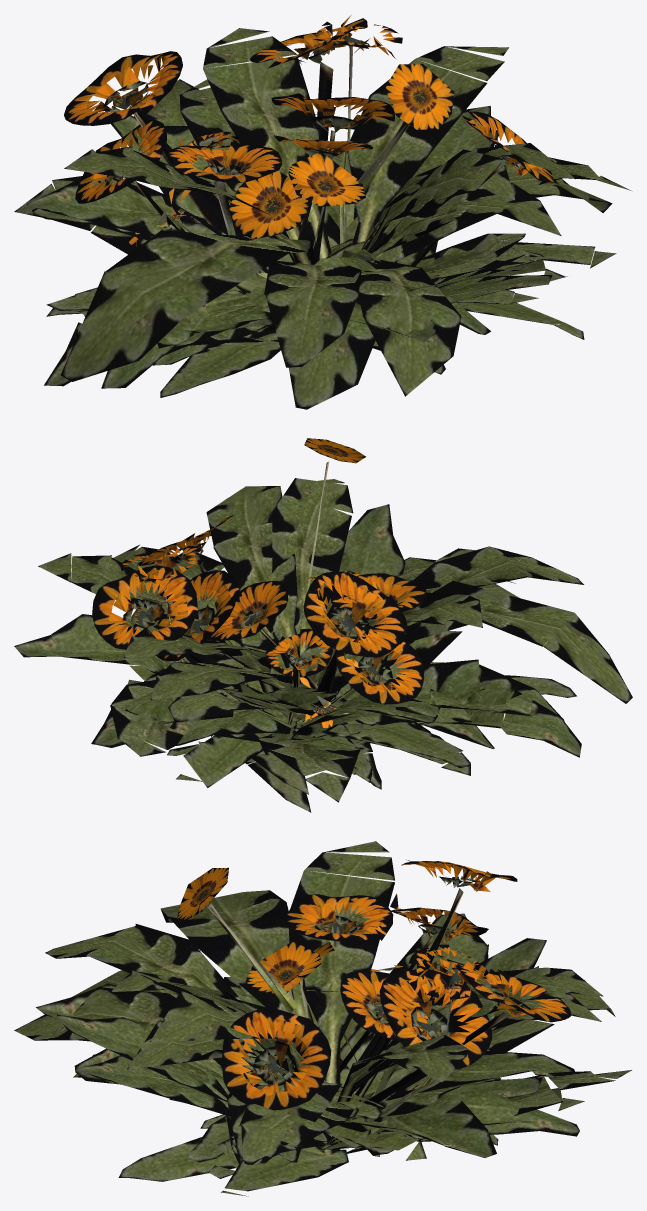
File: ph_flower_gazania.glb
3 views of the same model, one above another, from view 1: azimuth 30°, elevation 25°; view 2: azimuth 150°, elevation 25°; view 3: azimuth 270°, elevation 25° (orthographic). The views are drawn at different scales.
Visible parts, largest first — view 1: v0, v2, v1, v3, v4, v6, v5; view 2: v0, v2, v1, v3, v4, v5, v6; view 3: v0, v2, v1, v3, v4, v6, v5.
Part boxes in pixels (box(x1,y1,x2,y2)): v0: box(61, 15, 631, 396); v2: box(14, 79, 612, 386); v1: box(101, 18, 567, 409); v3: box(26, 131, 534, 310); v4: box(160, 135, 525, 397); v6: box(197, 157, 584, 374); v5: box(32, 183, 543, 316); v0: box(14, 438, 632, 787); v2: box(152, 546, 583, 802); v1: box(92, 515, 564, 727); v3: box(144, 573, 470, 794); v4: box(170, 580, 576, 789); v5: box(167, 648, 470, 812); v6: box(91, 641, 494, 749); v0: box(14, 841, 631, 1196); v2: box(36, 893, 615, 1164); v1: box(72, 942, 601, 1178); v3: box(226, 894, 501, 1164); v4: box(74, 971, 574, 1162); v6: box(73, 1018, 579, 1181); v5: box(214, 954, 498, 1164).
Bounding box in the file's own units: 0.3387 × 0.1661 × 0.3276.
Materials: 1 (1 with a texture image).
